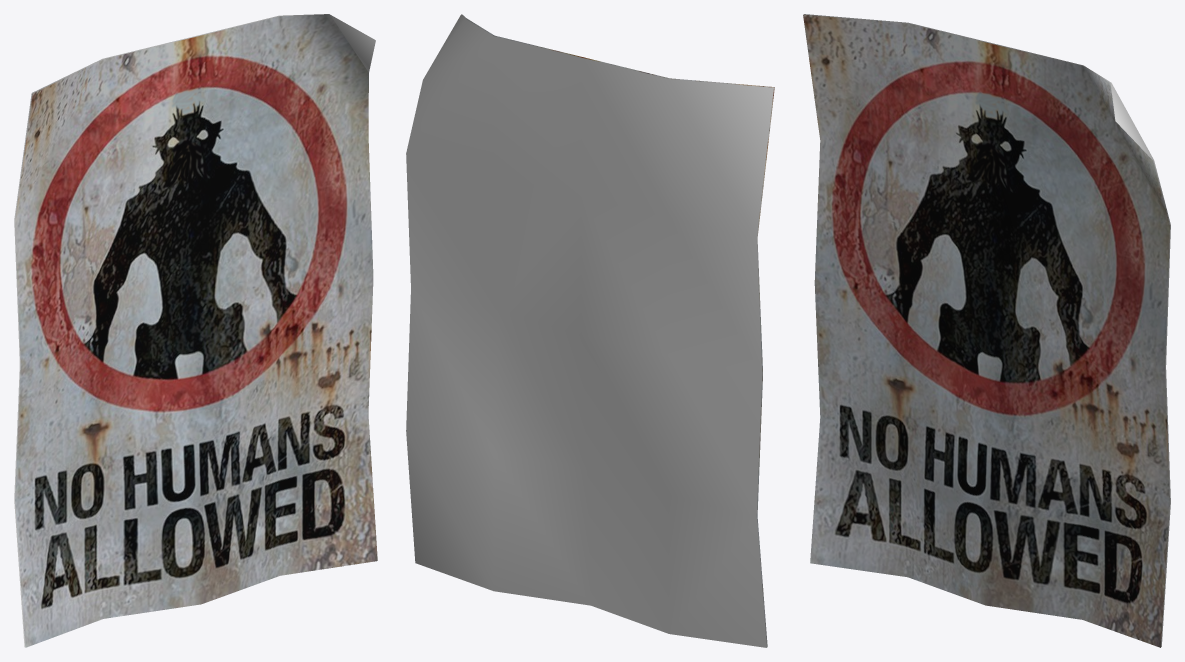
File: Poster 2.FBX
3 views of the same model, side by side, from view 1: azimuth 30°, elevation 25°; view 2: azimuth 150°, elevation 25°; view 3: azimuth 330°, elevation 25° (orthographic).
Parts seen in each view (by area): view 1: Poster 2; view 2: Poster 2; view 3: Poster 2.
Part boxes in pixels (box(x1,y1,x2,y2)): Poster 2: box(14, 14, 377, 647); Poster 2: box(406, 14, 774, 647); Poster 2: box(803, 14, 1170, 647).
Size of the model in its own units: 630 by 99.64 by 953.
1 material, 1 textured.
